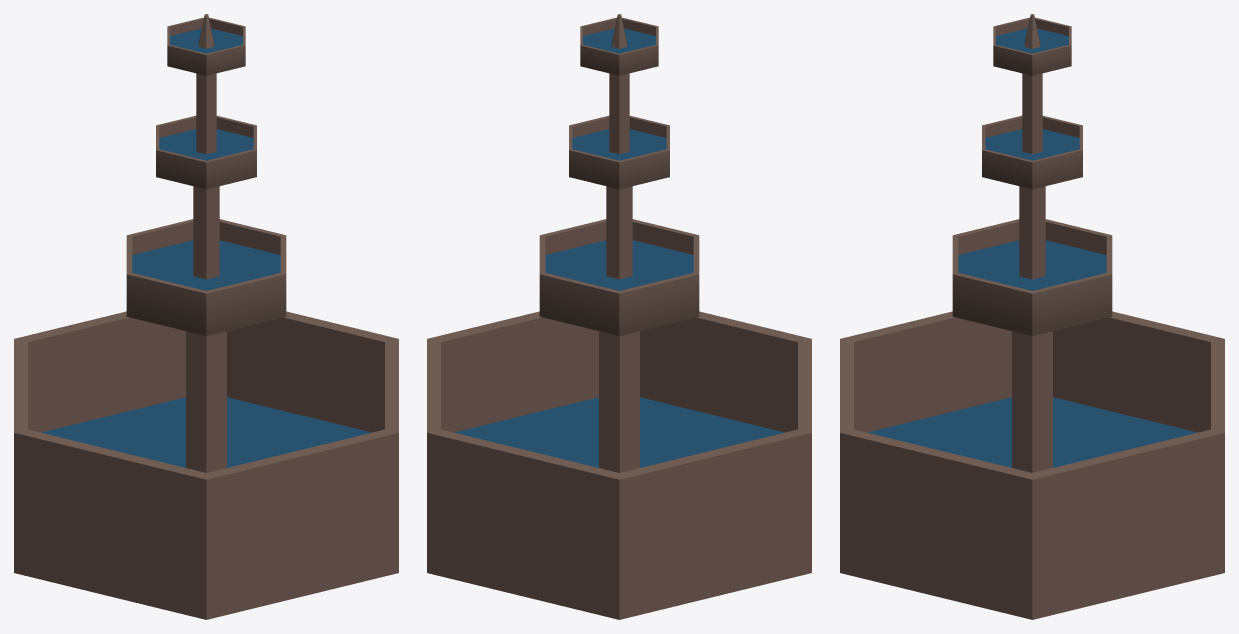
File: Fountain.fbx
3 renders of one model, left to right at view 1: azimuth 30°, elevation 25°; view 2: azimuth 150°, elevation 25°; view 3: azimuth 270°, elevation 25°, orthographic.
Parts seen in each view (by area): view 1: Fountain; view 2: Fountain; view 3: Fountain.
Part boxes in pixels (x1=…): Fountain: x1=14, y1=14, x2=398, y2=619; Fountain: x1=427, y1=14, x2=811, y2=619; Fountain: x1=840, y1=14, x2=1224, y2=619.
Bounding box in the file's own units: 4.03 × 5.11 × 3.49.
